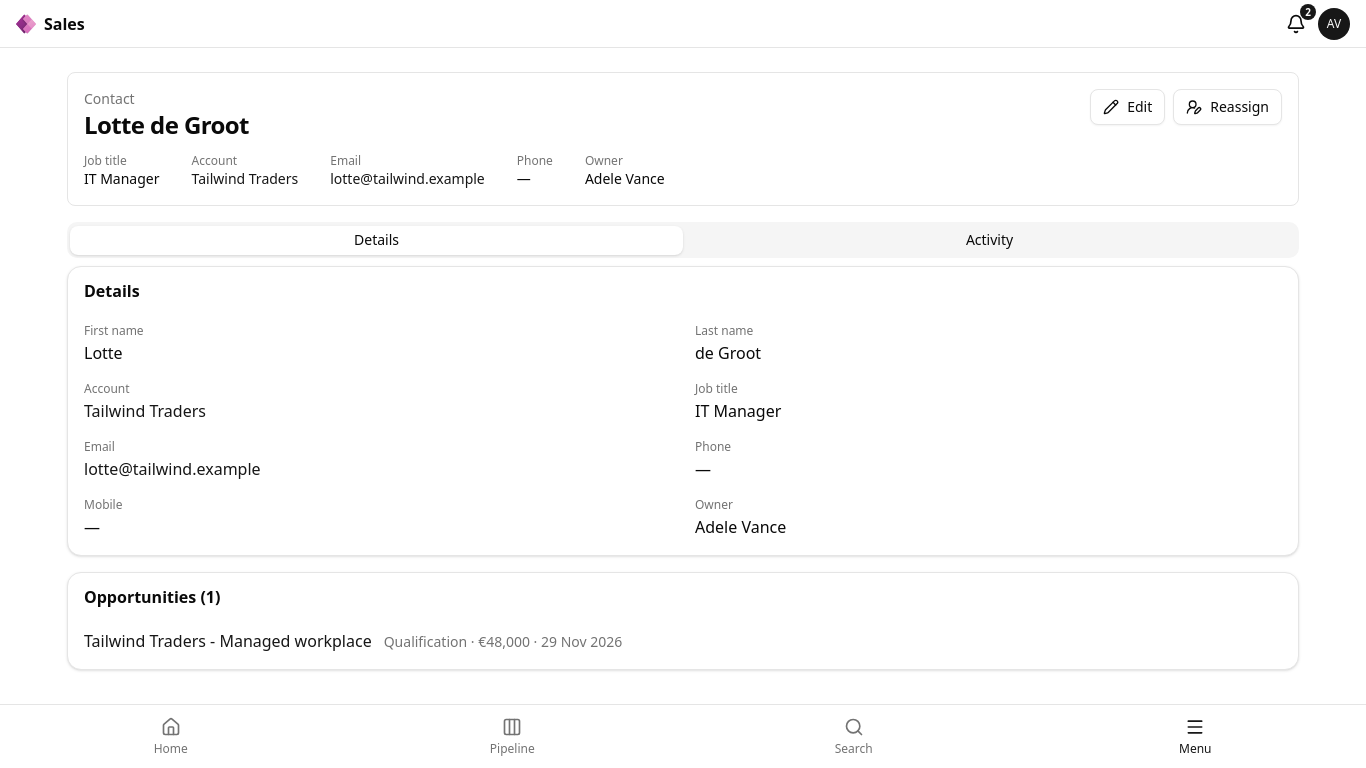
Test: activity timeline › puts the timeline in an Activity tab on a phone
The width and height of the screenshot is (1366, 768).
Click the tab "Activity": point(990, 240) [683,226,1296,254]
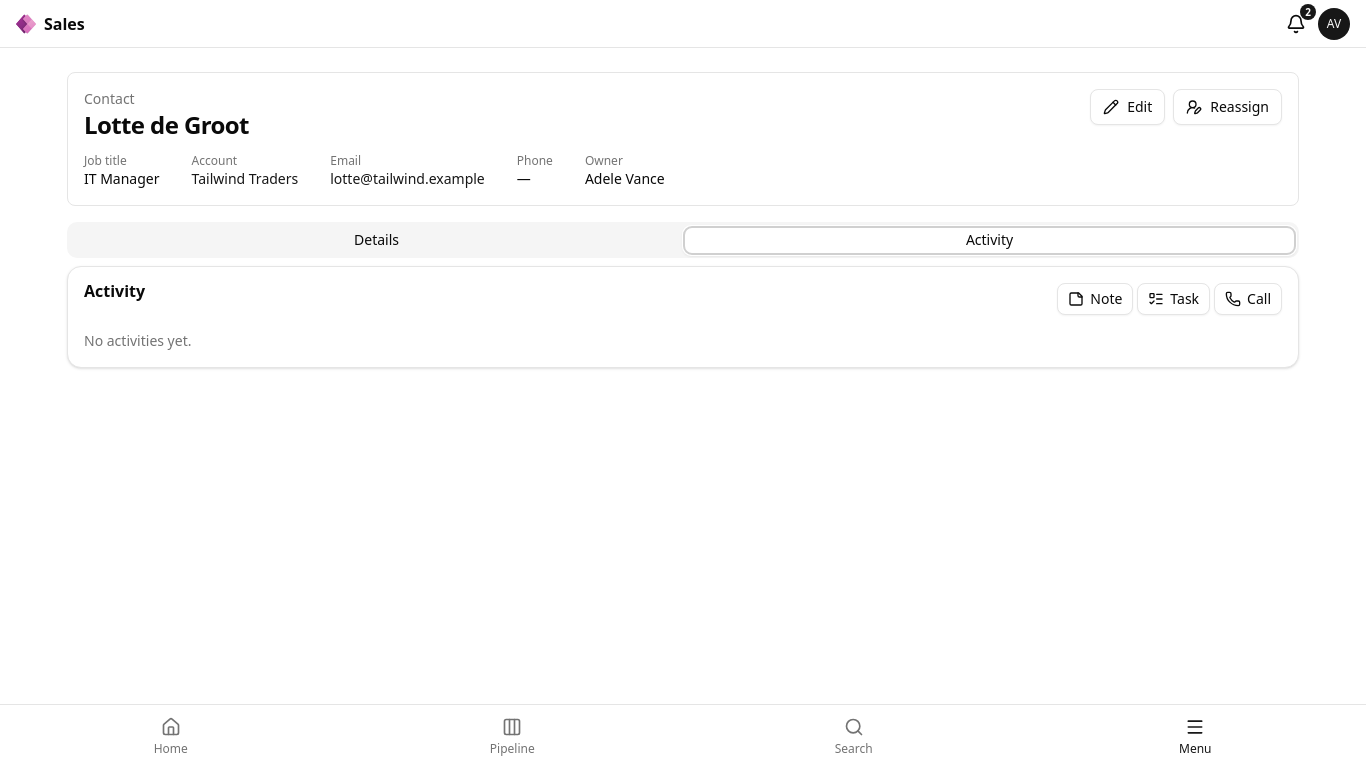
Check: the text "No activities yet." is shown, box [84,331,192,350]
